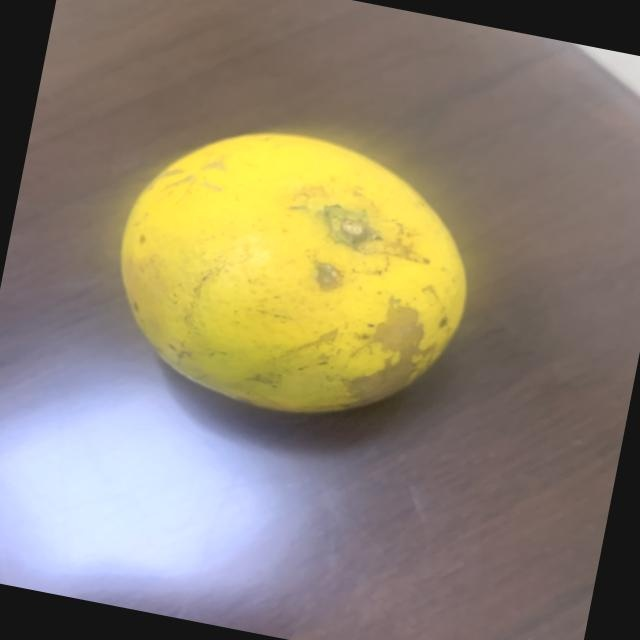agrume: (74, 96, 510, 468)
